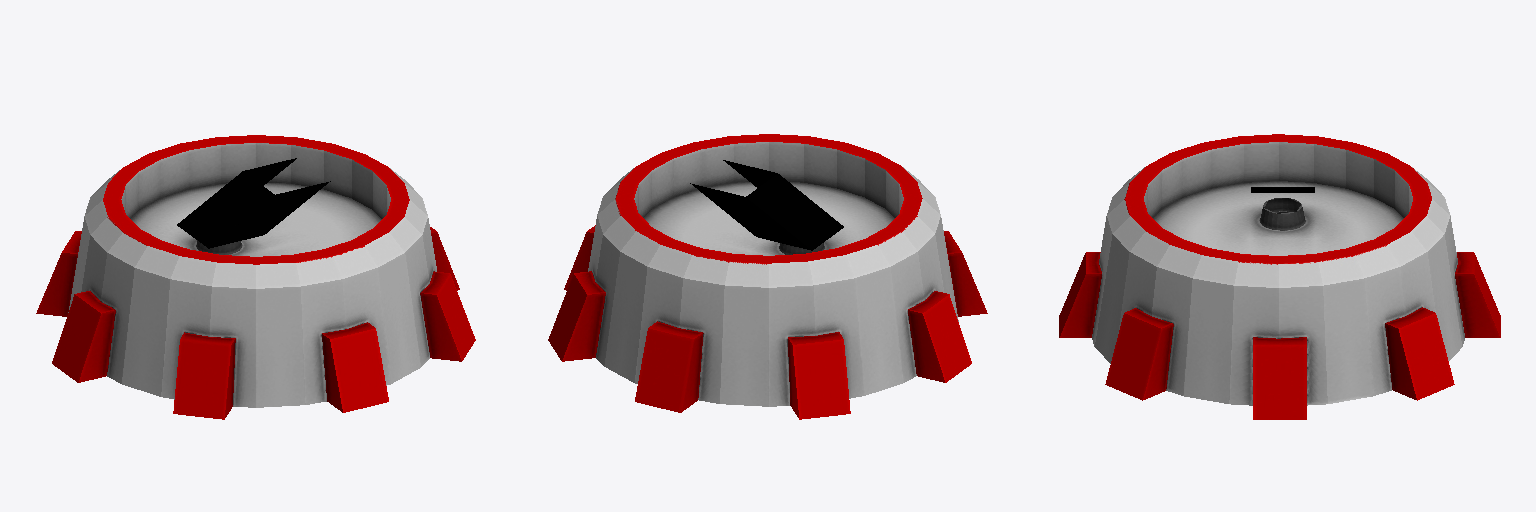
The picture shows the model from 3 angles: view 1: azimuth 30°, elevation 25°; view 2: azimuth 150°, elevation 25°; view 3: azimuth 270°, elevation 25°; orthographic projection.
Visible parts, largest first — view 1: Cone002; view 2: Cone002; view 3: Cone002.
Part boxes in pixels (x1,y1,x2,y2): Cone002: (36, 135, 475, 419); Cone002: (548, 134, 987, 419); Cone002: (1059, 134, 1500, 419).
Bounding box in the file's own units: 13.48 × 4.78 × 13.48.
Materials: 1 (1 with a texture image).